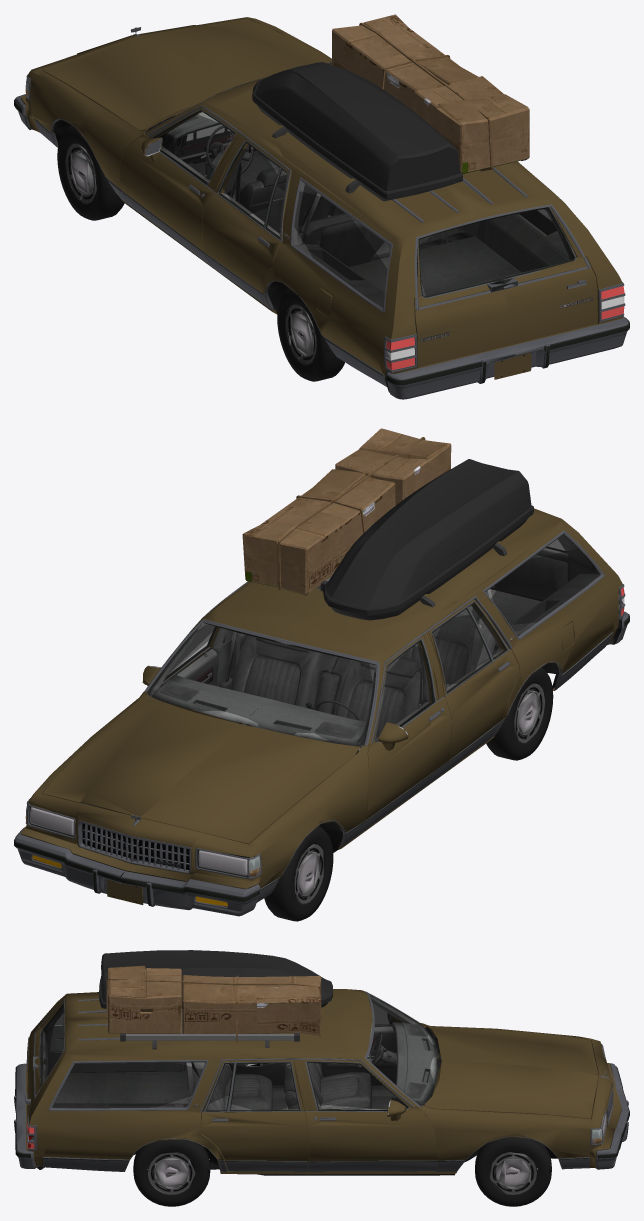
File: caprice.glb
The picture shows the model from 3 angles, top to bottom: view 1: azimuth 30°, elevation 25°; view 2: azimuth 150°, elevation 25°; view 3: azimuth 270°, elevation 25°; orthographic projection. The views are drawn at different scales.
Parts seen in each view (by area): view 1: part4, part8, part17, part13, part5, part0, wheel_RB, wheel_RF, part14, part10, part6, part20; view 2: part4, part8, part17, part13, part0, part5, wheel_RB, wheel_RF, part14, part2, part7, part6; view 3: part4, part8, part17, part0, part5, part13, wheel_LB, wheel_LF, part14, part18, part6, part10.
Boxes of the visible parts, <box> form: part4: <box>20,17,622,379</box>; part8: <box>21,63,580,334</box>; part17: <box>156,114,572,307</box>; part13: <box>252,62,462,201</box>; part5: <box>14,27,628,399</box>; part0: <box>332,14,529,173</box>; wheel_RB: <box>57,125,124,220</box>; wheel_RF: <box>277,288,344,381</box>; part14: <box>14,100,629,385</box>; part10: <box>160,124,280,241</box>; part6: <box>53,115,598,392</box>; part20: <box>386,286,624,370</box>; part4: <box>21,508,622,904</box>; part8: <box>73,534,600,889</box>; part17: <box>147,539,600,745</box>; part13: <box>323,459,533,620</box>; part0: <box>242,428,451,595</box>; part5: <box>14,530,628,916</box>; wheel_RB: <box>264,826,333,921</box>; wheel_RF: <box>486,667,553,760</box>; part14: <box>14,547,629,906</box>; part2: <box>30,807,247,875</box>; part7: <box>82,823,189,902</box>; part6: <box>21,600,622,889</box>; part4: <box>26,989,621,1173</box>; part8: <box>42,993,621,1112</box>; part17: <box>42,995,435,1109</box>; part0: <box>106,965,321,1042</box>; part5: <box>14,991,628,1171</box>; part13: <box>99,950,332,1049</box>; wheel_LB: <box>475,1137,551,1206</box>; wheel_LF: <box>133,1139,210,1206</box>; part14: <box>14,1004,629,1162</box>; part18: <box>120,1009,299,1041</box>; part6: <box>34,1026,619,1175</box>; part10: <box>206,1025,407,1110</box>.
Bounding box in the file's own units: 2.12 × 1.98 × 5.5.
22 materials, 10 textured.
